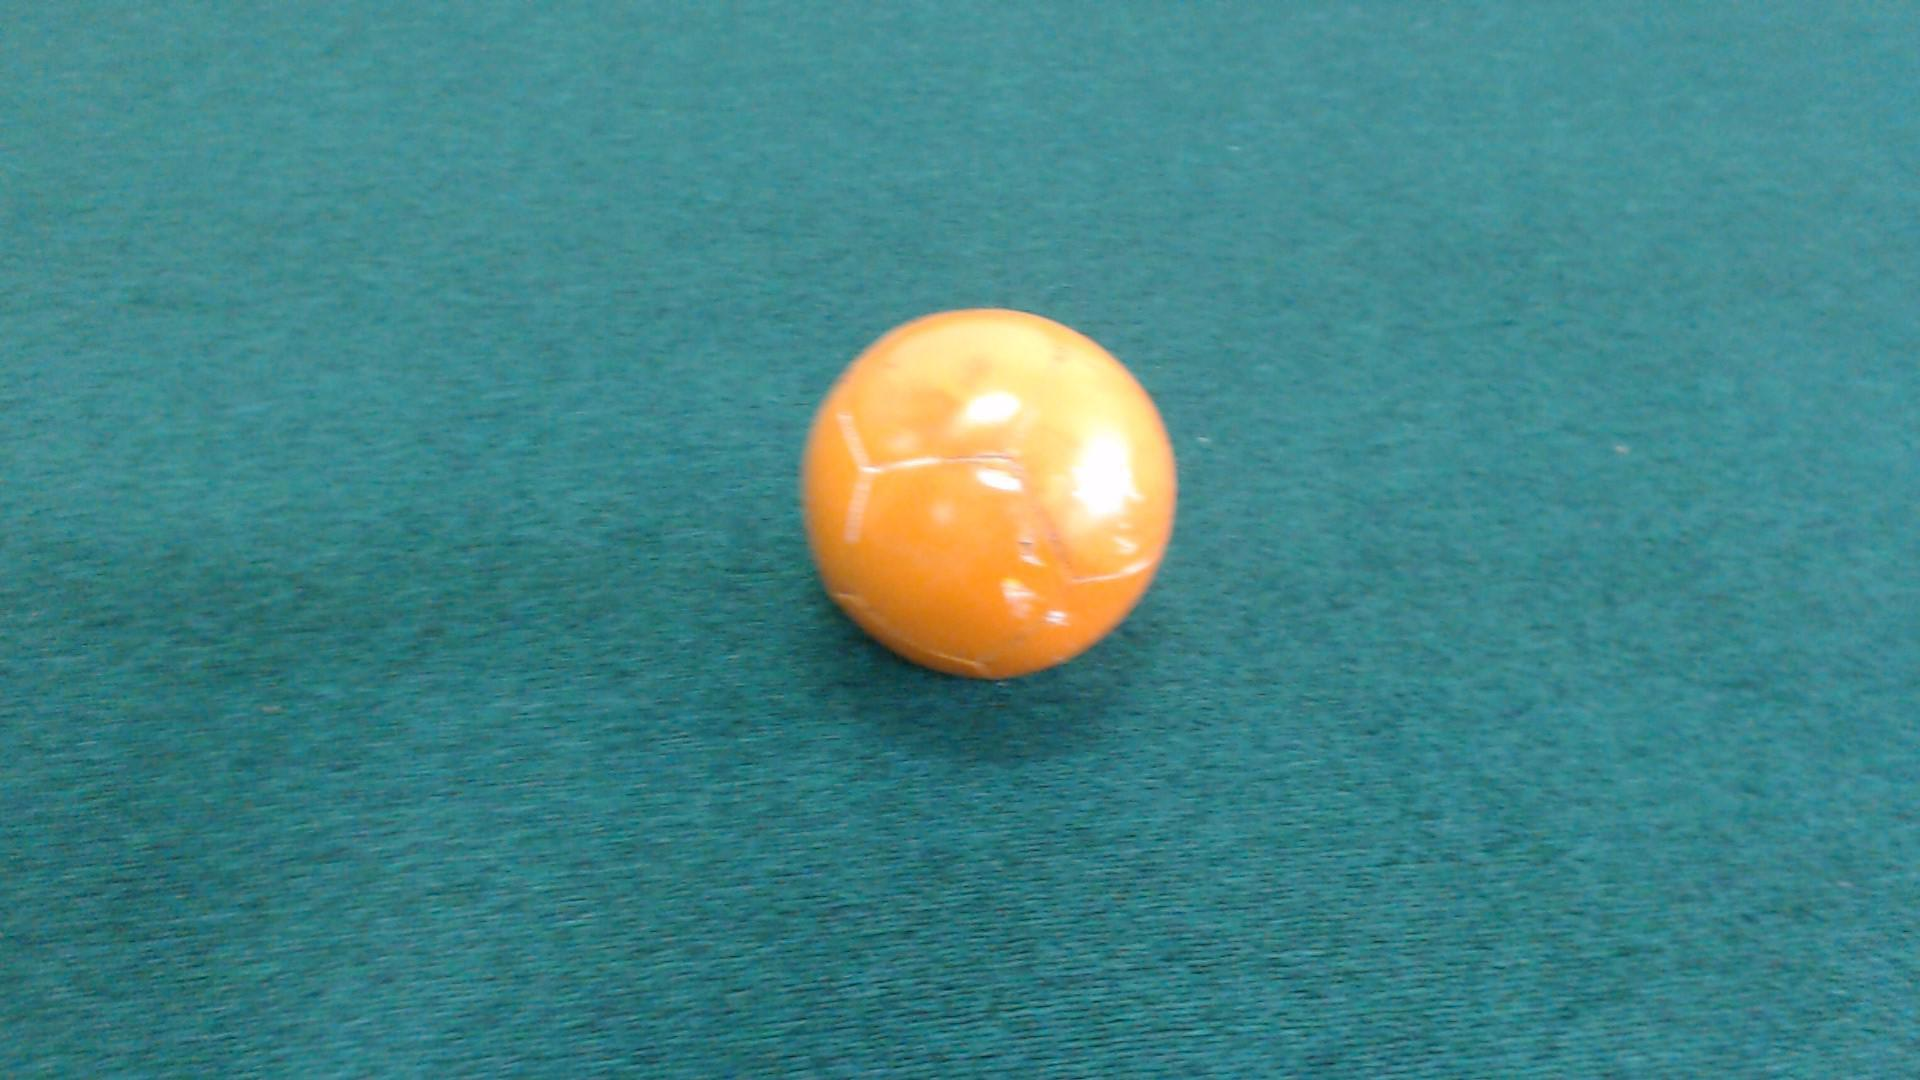bola: (766, 256, 1209, 721)
